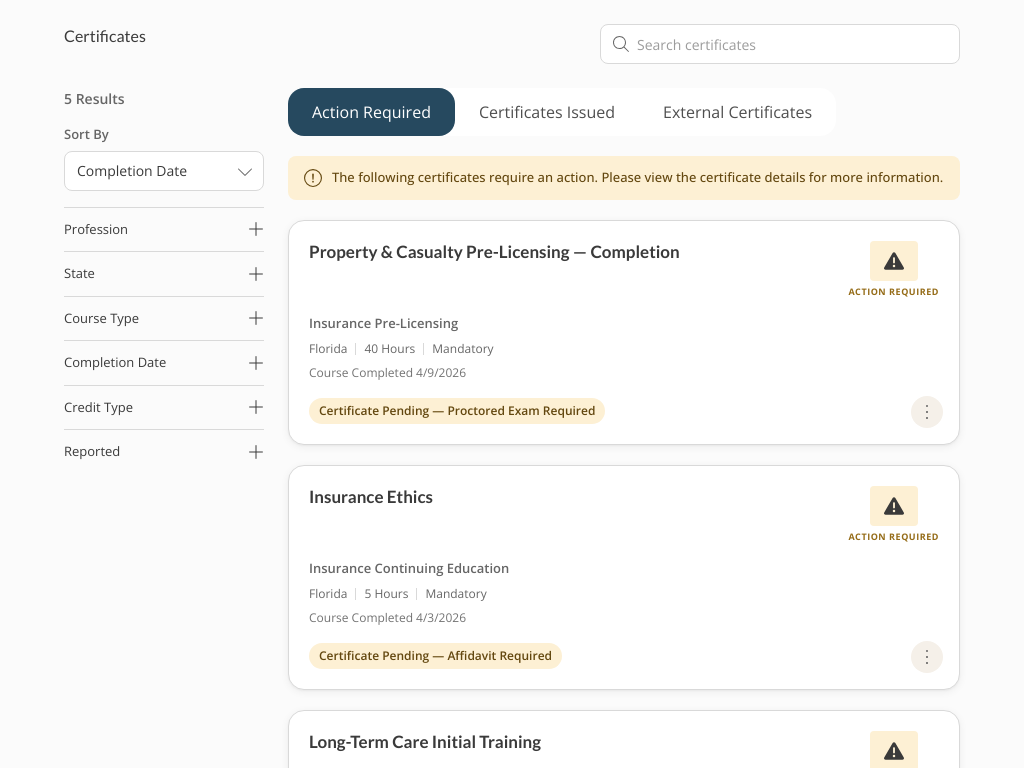
Test: CertificatesPage › opens the Certificate Details slide-over for an action-required cert and closes on Esc
Click the button with aria-label "view details for Property & Casualty Pre-Licensing": (624, 332) [288,220,960,444]
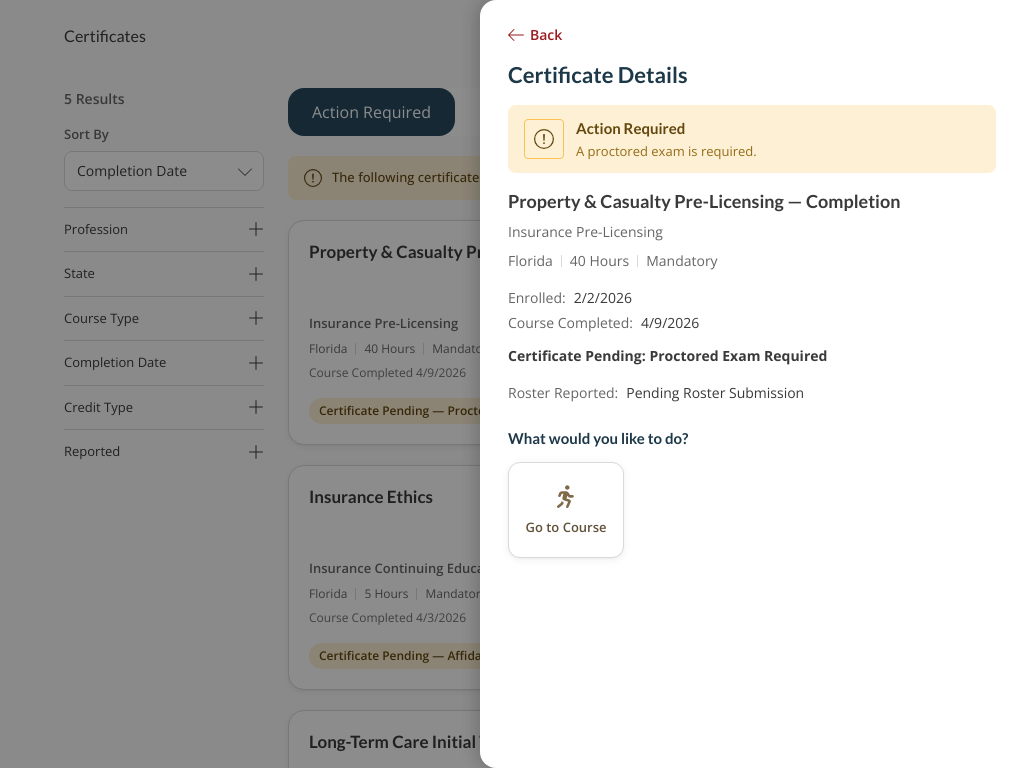
Expected: the text "Action Required" is shown, [576,119,685,137]
Expected: the text "What would you like to do?" is shown, [508,429,688,447]
Expected: the button "Go to Course" is shown, [508,462,624,558]
Press Escape
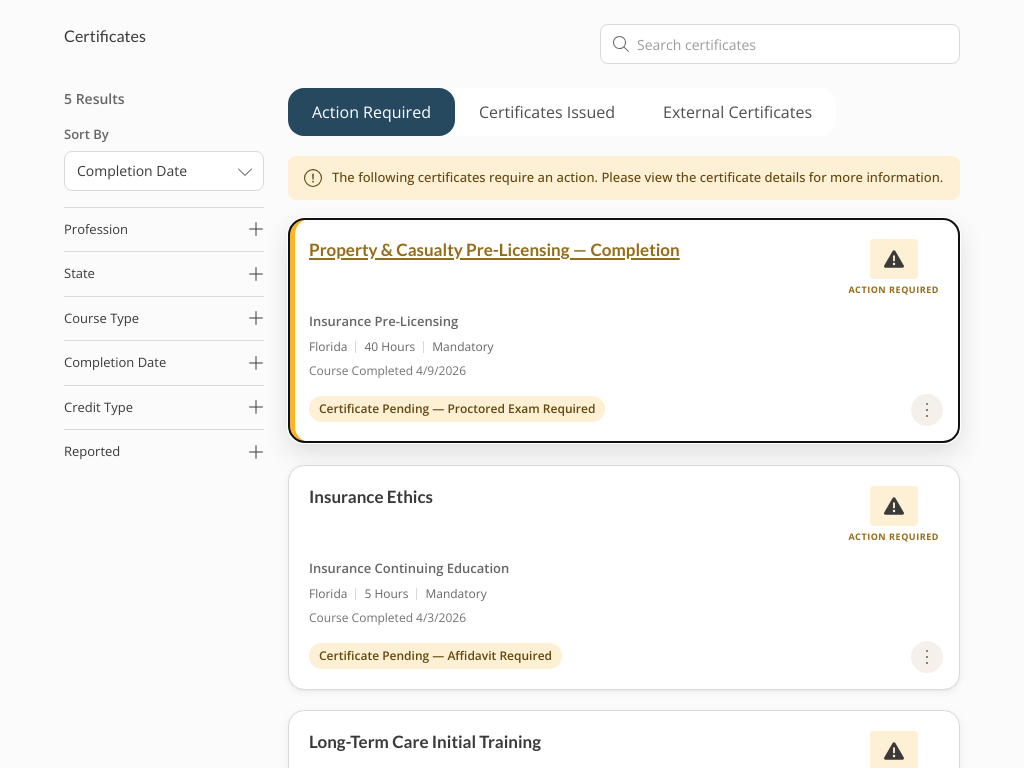
Expected: the dialog is gone
